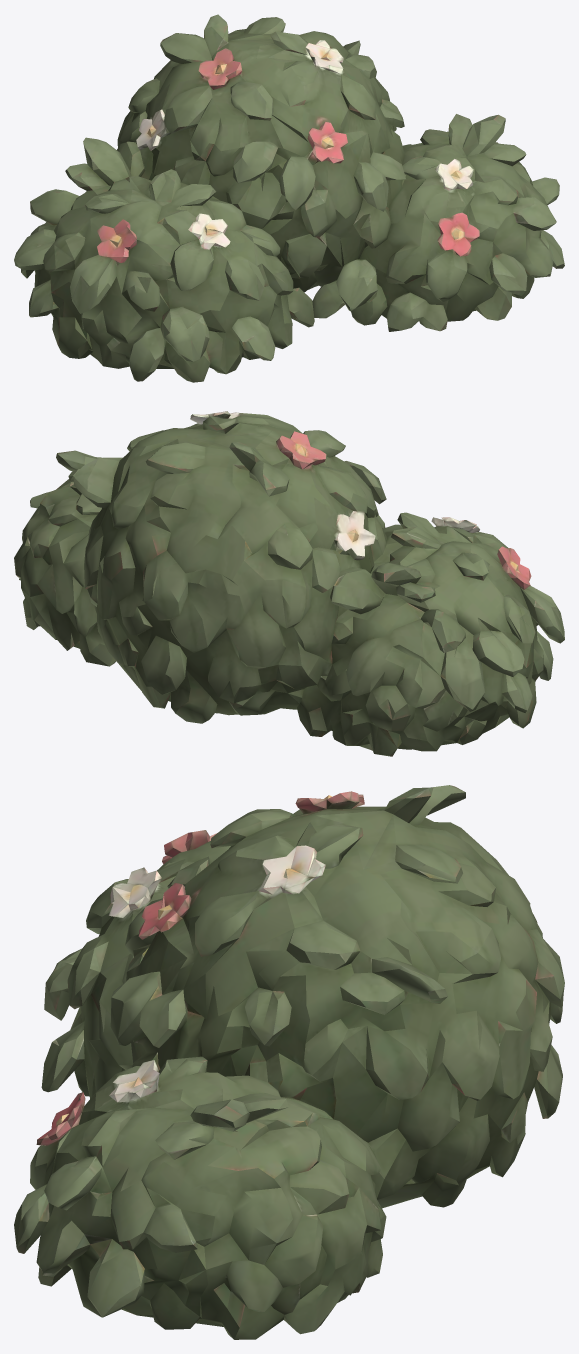
Rendered from shrub.glb.
3 renders of one model, top to bottom at view 1: azimuth 30°, elevation 25°; view 2: azimuth 150°, elevation 25°; view 3: azimuth 270°, elevation 25°, orthographic. The views are drawn at different scales.
Visible parts, largest first — view 1: Mesh_0; view 2: Mesh_0; view 3: Mesh_0.
Boxes of the visible parts, x1,y1,x2,y2 form: Mesh_0: (14, 14, 564, 382); Mesh_0: (14, 411, 564, 756); Mesh_0: (14, 785, 564, 1339).
Size of the model in its own units: 1.02 by 0.495 by 0.6499.
1 material, 1 textured.
